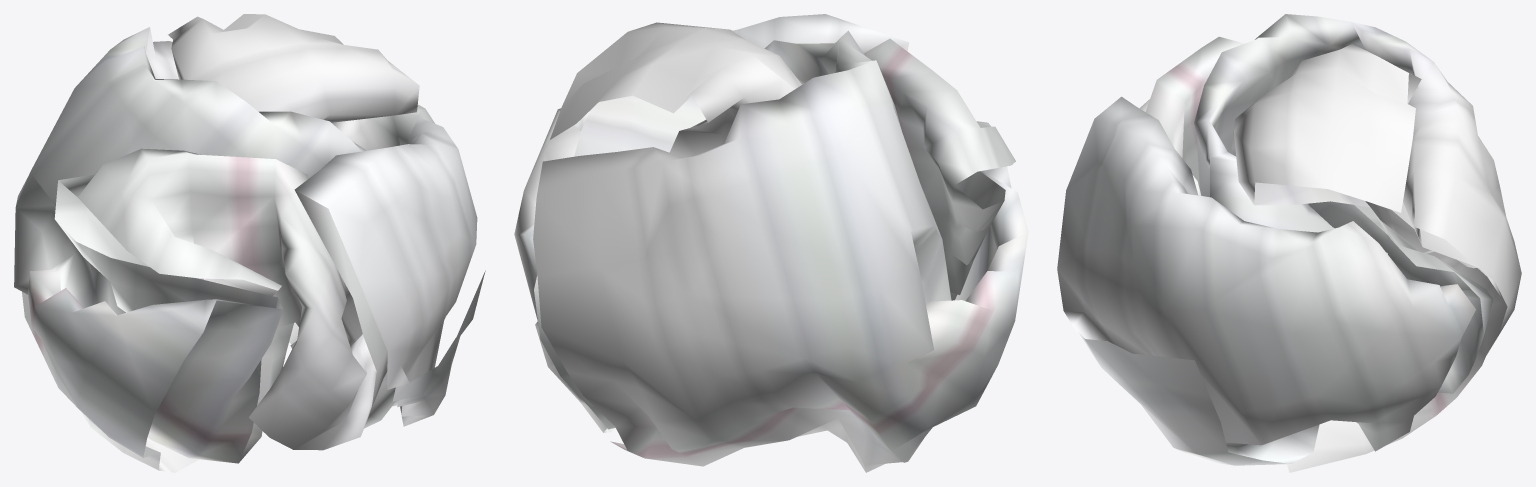
The model's file is crumpled_paper.glb.
3 renders of one model, left to right at view 1: azimuth 30°, elevation 25°; view 2: azimuth 150°, elevation 25°; view 3: azimuth 270°, elevation 25°, orthographic. The views are drawn at different scales.
Visible parts, largest first — view 1: Object_4; view 2: Object_4; view 3: Object_4.
Part boxes in pixels (x1=…): Object_4: x1=14, y1=14, x2=485, y2=472; Object_4: x1=514, y1=14, x2=1028, y2=472; Object_4: x1=1057, y1=14, x2=1521, y2=472.
Size of the model in its own units: 0.7005 by 0.6443 by 0.7149.
Materials: 1 (1 with a texture image).
